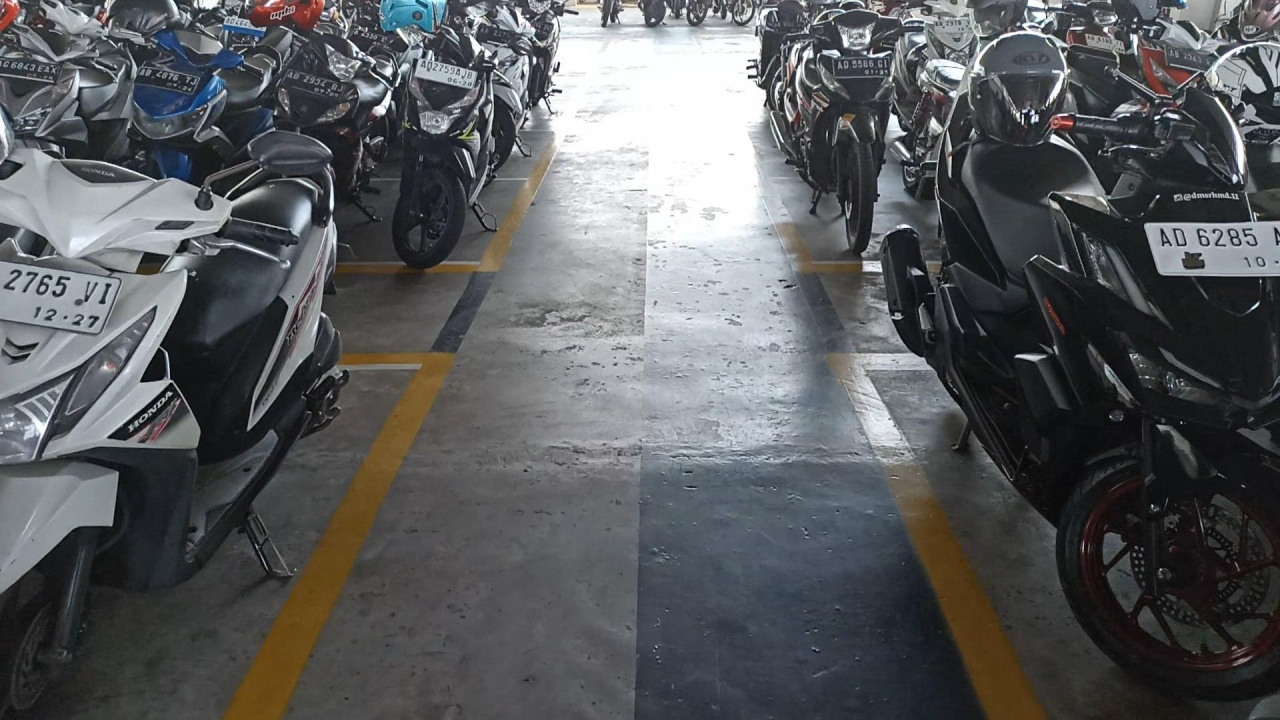plate: (281, 69, 347, 100), (415, 58, 478, 90), (133, 67, 200, 95), (833, 57, 891, 78)
